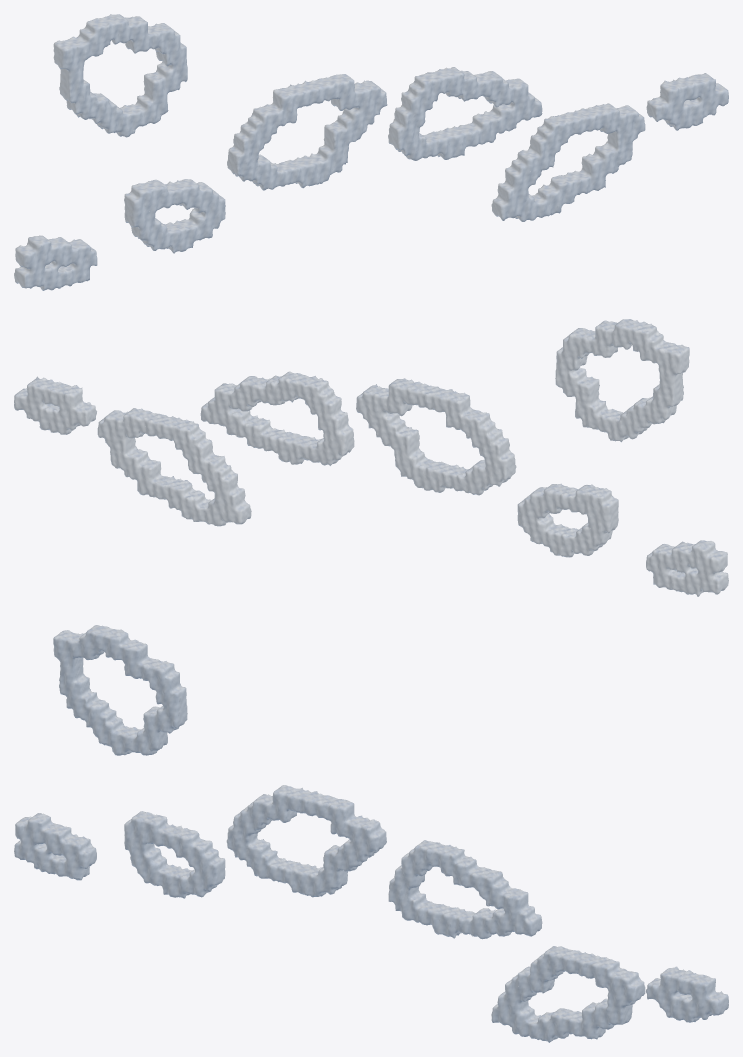
The model's file is Luna0CharsNuvemContinua.glb.
The picture shows the model from 3 angles, top to bottom: view 1: azimuth 30°, elevation 25°; view 2: azimuth 150°, elevation 25°; view 3: azimuth 330°, elevation 25°; orthographic projection.
Parts seen in each view (by area): view 1: Luna0CharsNuvemContinua; view 2: Luna0CharsNuvemContinua; view 3: Luna0CharsNuvemContinua.
Boxes of the visible parts, x1=… form: Luna0CharsNuvemContinua: x1=14, y1=14, x2=728, y2=290; Luna0CharsNuvemContinua: x1=14, y1=319, x2=728, y2=596; Luna0CharsNuvemContinua: x1=14, y1=625, x2=728, y2=1042.
Size of the model in its own units: 114 by 46.31 by 3.55.
